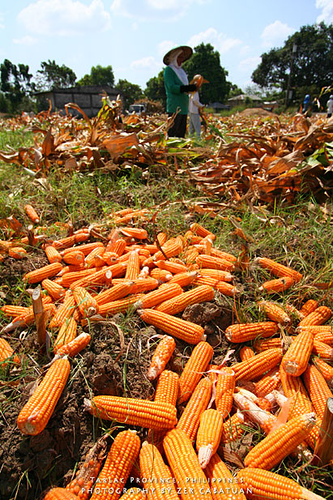corn: (82, 398, 176, 428)
